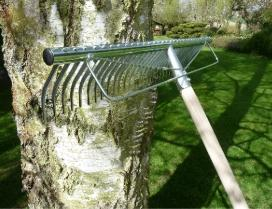RATEAU: (33, 30, 272, 209)
